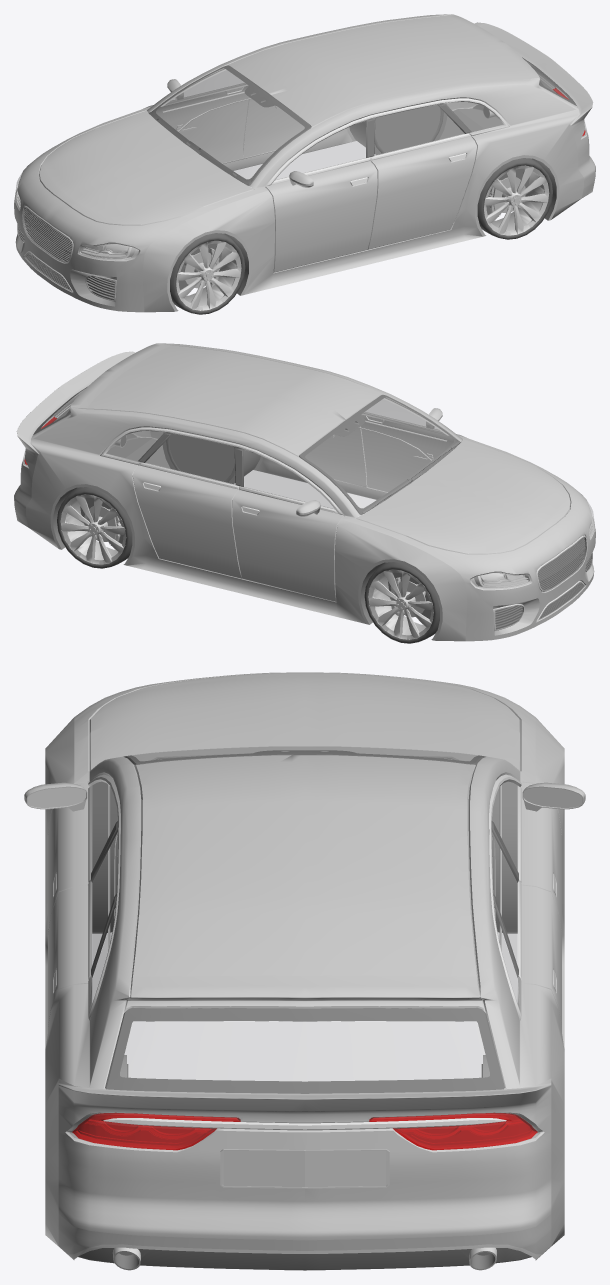
File: SHC MC Free Promotion Car.fbx
The picture shows the model from 3 angles, top to bottom: view 1: azimuth 30°, elevation 25°; view 2: azimuth 150°, elevation 25°; view 3: azimuth 270°, elevation 25°; orthographic projection. The views are drawn at different scales.
Parts seen in each view (by area): view 1: SHC MC Free Promotion Car.008, SHC MC Free Promotion Car.009, SHC MC Free Promotion Car.005, SHC MC Free Promotion Car.007, SHC MC Free Promotion Car.003; view 2: SHC MC Free Promotion Car.008, SHC MC Free Promotion Car.009, SHC MC Free Promotion Car.004, SHC MC Free Promotion Car.006, SHC MC Free Promotion Car.002; view 3: SHC MC Free Promotion Car.008, SHC MC Free Promotion Car.009.
Part boxes in pixels (left/top/right/bottom): SHC MC Free Promotion Car.008: left=14, top=14, right=595, bottom=312; SHC MC Free Promotion Car.009: left=15, top=58, right=593, bottom=301; SHC MC Free Promotion Car.005: left=477, top=158, right=552, bottom=239; SHC MC Free Promotion Car.007: left=170, top=233, right=245, bottom=314; SHC MC Free Promotion Car.003: left=184, top=248, right=219, bottom=288; SHC MC Free Promotion Car.008: left=14, top=343, right=595, bottom=641; SHC MC Free Promotion Car.009: left=16, top=387, right=594, bottom=630; SHC MC Free Promotion Car.004: left=57, top=487, right=132, bottom=568; SHC MC Free Promotion Car.006: left=364, top=562, right=439, bottom=643; SHC MC Free Promotion Car.002: left=390, top=577, right=425, bottom=617; SHC MC Free Promotion Car.008: left=24, top=672, right=585, bottom=1254; SHC MC Free Promotion Car.009: left=27, top=746, right=582, bottom=1270.
Bounding box in the file's own units: 476 × 138 × 227.
